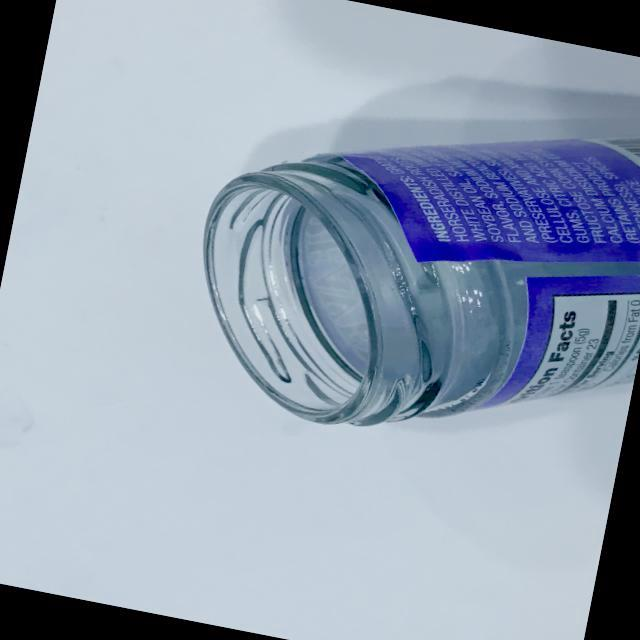glass: (156, 33, 640, 489)
